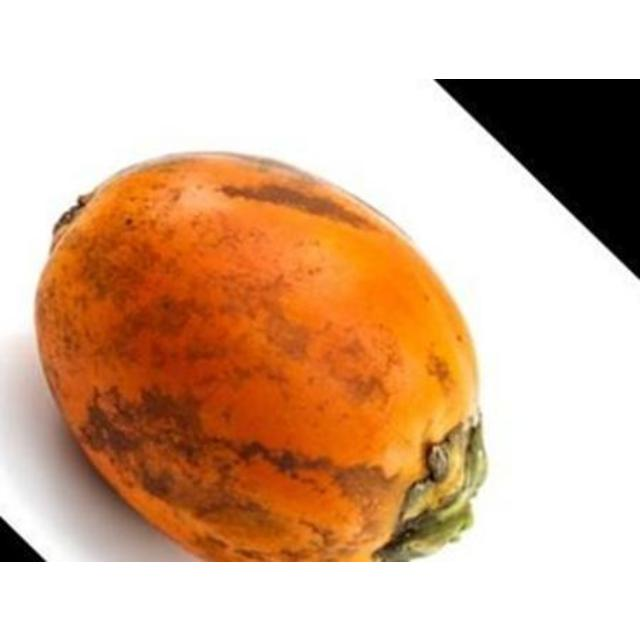good: (34, 152, 489, 560)
